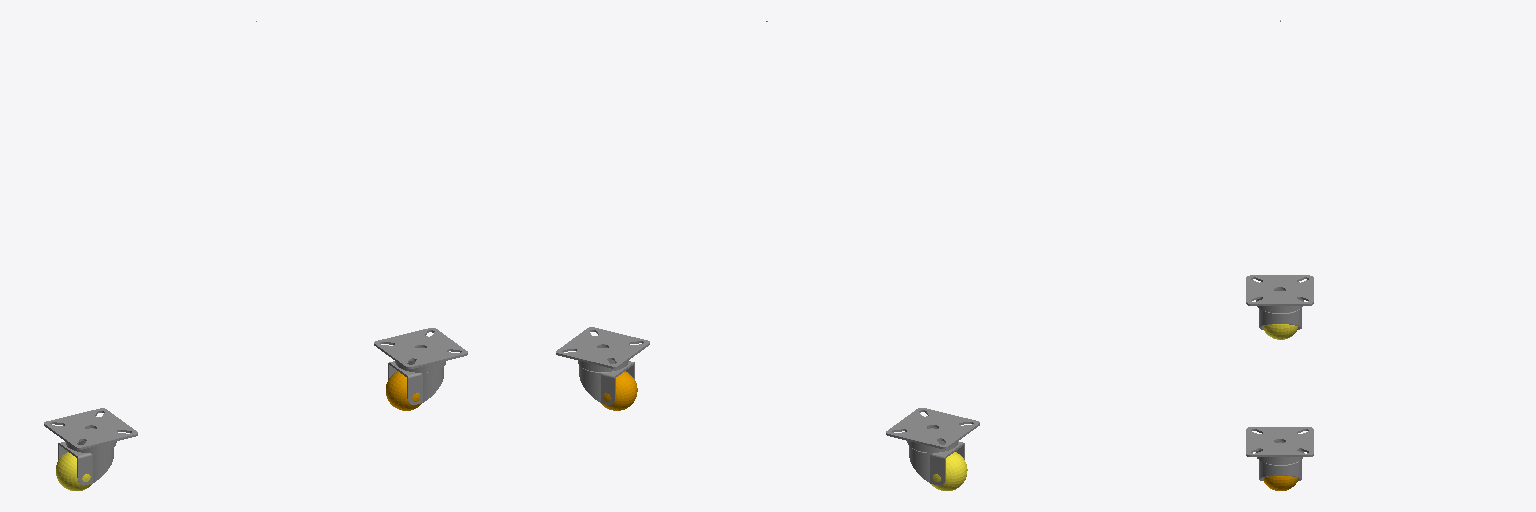
--- What the picture shows (computed from the rendered views, not written in the file) ---
3 views of the same robot in one strip: view 1: azimuth 30°, elevation 25°; view 2: azimuth 150°, elevation 25°; view 3: azimuth 270°, elevation 25° (orthographic).
Model evarobotmodel with 32 links and 31 joints (6 continuous, 25 fixed), rooted at base_link, posed every joint at zero.
Links seen in each view (by area): view 1: rear_caster_base_link, front_caster_base_link, rear_caster_rotate_link, front_caster_rotate_link, front_caster_wheel_link, rear_caster_wheel_link; view 2: rear_caster_base_link, front_caster_base_link, rear_caster_rotate_link, front_caster_rotate_link, front_caster_wheel_link, rear_caster_wheel_link; view 3: rear_caster_base_link, front_caster_base_link, rear_caster_rotate_link, front_caster_rotate_link.
Boxes of the visible links, box(x1,y1,x2,y2) form: rear_caster_base_link: box(44, 408, 137, 452); front_caster_base_link: box(374, 328, 467, 372); rear_caster_rotate_link: box(58, 428, 113, 485); front_caster_rotate_link: box(388, 348, 443, 404); front_caster_wheel_link: box(386, 371, 421, 410); rear_caster_wheel_link: box(56, 452, 91, 490); rear_caster_base_link: box(886, 408, 979, 452); front_caster_base_link: box(556, 327, 649, 371); rear_caster_rotate_link: box(909, 428, 964, 485); front_caster_rotate_link: box(579, 348, 634, 404); front_caster_wheel_link: box(601, 371, 637, 410); rear_caster_wheel_link: box(931, 452, 967, 490); rear_caster_base_link: box(1246, 275, 1313, 312); front_caster_base_link: box(1246, 427, 1313, 464); rear_caster_rotate_link: box(1259, 291, 1301, 329); front_caster_rotate_link: box(1259, 442, 1301, 480).
Size in the robot's own frame: 0.3822 by 0.06 by 0.3947 metres.
4 mesh visuals loaded from 7 distinct referenced files (2 Collada DAE); not drawn: 7 (reference not matched to a file when rendering).

URDF robot description (evarobotmodel):
<?xml version="1.0" encoding="UTF-8"?>
<robot name="evarobotmodel">

<!-- BASE-FOOTPRINT 
fro testing gmapping an dsolve liklehood issue basefoorptint commeted and controllers and diff driver topic odom and baselink
-->
  <!-- base_footprint is a fictitious link(frame) that is on the ground right below base_link origin 
  <link name="base_footprint">
    <visual>
        <origin xyz="0 0 0" rpy="0 0 0" />
        <geometry>
            <box size="0.001 0.001 0.001" />
        </geometry>
    </visual>
  </link>

  <gazebo reference="base_footprint">
    <turnGravityOff>false</turnGravityOff>
  </gazebo>

  <joint name="base_footprint_joint" type="fixed">
    <origin xyz="0 0 0" rpy="0 0 0" />
    <parent link="base_footprint"/>
    <child link="base_link" />
  </joint>
-->

<!--BASE -->
	<link name="base_link">	
			<collision>
				<origin xyz="0 0 0" rpy="0 0 0"/>
				<geometry>
					<box size="0.4 0.3 0.3"/> 
				</geometry>
			</collision>
			<visual>
				<origin xyz="0.065 -0.11 -0.15" rpy="0 0 0" />  
				<geometry>
					<mesh filename="package://evarobotmodel_description/meshes/base.dae"/> 
				</geometry>
				<material name="Gazebo/Black" />
			</visual>
			<inertial>
				<origin xyz="0 0 0" rpy="0 0 0"/>
				<mass value="10.0"/>
				<inertia
					ixx="1.0" ixy="0" ixz="0"
					iyy="1.0" iyz="0"
					izz="1.0"/>
			</inertial>
		</link>

		<gazebo reference="base_link">
			<material>Gazebo/Black</material> 
		</gazebo>
		<link name="basecolor_link">		
			<collision>
				<origin xyz="0 0 0" rpy="0 0 0"/>
				<geometry>
					<box size="0.0001 0.0001 0.0001"/> 
				</geometry>
			</collision>			
			<visual>
				<origin xyz="0.065 -0.11 -0.15" rpy="0 0 0" /> 
				<geometry>
					<mesh filename="package://evarobotmodel_description/meshes/base_orange.dae"/>  
				</geometry>
				<material name="Orange" />
			</visual>
			<inertial>
				<origin xyz="0 0 0" rpy="0 0 0"/>
				<mass value="0.0001"/>
				<inertia
					ixx="1e-6" ixy="0.0" ixz="0.0"
					iyy="1e-6" iyz="0.0"
					izz="1e-6"/>
			</inertial>			
		</link>
		<gazebo reference="basecolor_link">
			<material>Gazebo/Orange</material> 
		</gazebo>				
		<joint name="basecolor_joint" type="fixed">
			<axis xyz="0 1 0" />
			<origin xyz="0 0 0" rpy="0 0 0"/>
			<parent link="base_link"/>
			<child link="basecolor_link"/>
		</joint>    
    <!-- LEFT WHEEL -->
		<link name="left_wheel_link">
			<collision>
				<origin rpy="1.57075 0 0" xyz="0 0 0"/>
				<geometry>
					<cylinder length="0.035" radius="0.085"/>
				</geometry>
			</collision>
			<visual>
				<origin rpy="0 0 1.57079632679" xyz="0 0 0"/> 
				<geometry>
					 <mesh filename="package://evarobotmodel_description/meshes/rim.dae" scale="1 1 1"/> 
				</geometry>
				<material name="Grey"/>
			</visual>
			<inertial>
				<origin rpy="1.57075 0 0" xyz="0 0 0"/>
				<mass value="0.85"/>
				<inertia
					ixx="0.001" ixy="0" ixz="0"
					iyy="0.001" iyz="0"
					izz="0.001"/>
			</inertial>
		</link>
		<gazebo reference="left_wheel_link">
			<material>Gazebo/Grey</material>
			<mu1>1.0</mu1>
			<mu2>1.0</mu2>
			<kp>1000000.0</kp>
			<kd>100.0</kd>
			<minDepth>0.001</minDepth>
			<maxVel>1.0</maxVel>		
		</gazebo>
		<joint name="left_wheel_joint" type="continuous">
			<axis xyz="0 1 0"/>
			<parent link="base_link"/>
			<child link="left_wheel_link"/>
			<origin rpy="0 0 0" xyz="0 0.16 -0.119"/>
			<limit effort="100" velocity="100"/>
			<dynamics damping="0" friction="0"/>
		</joint>
		<link name="left_wheeltire_link">
			<collision>
				<origin rpy="1.57075 0 0" xyz="0 0 0"/>
				<geometry>
					<cylinder length="0.001" radius="0.001"/>
				</geometry>
			</collision>
			<visual>
				<origin rpy="0 0 1.57079632679" xyz="0 0 0"/>
				<geometry>
					<mesh filename="package://evarobotmodel_description/meshes/tire.dae"/> 
				</geometry>
			</visual>
			<inertial>
				<origin xyz="0 0 0" rpy="0 0 0"/>
				<mass value="0.001"/>
				<inertia
					ixx="0.001" ixy="0" ixz="0"
					iyy="0.001" iyz="0"
					izz="0.001"/>
			</inertial>
		</link>
		<gazebo reference="left_wheeltire_link">
			<material>Gazebo/Black</material>
		</gazebo>	
		<joint name="left_wheeltire_joint" type="fixed">
			<axis xyz="0 1 0"/>
			<parent link="left_wheel_link"/>
			<child link="left_wheeltire_link"/>
			<origin rpy="0 0 0" xyz="0.0 0.0 0.0"/>
		</joint>     
 <!-- RIGHT WHEEL -->
		<link name="right_wheel_link">
			<collision>
				<origin rpy="1.57075 0 0" xyz="0 0 0"/>
				<geometry>
					<cylinder length="0.035" radius="0.085"/>
				</geometry>
			</collision>
			<visual>
				<origin rpy="0 0 1.57079632679" xyz="0 0 0"/> 
				<geometry>
					 <mesh filename="package://evarobotmodel_description/meshes/rim.dae" scale="1 1 1"/> 
				</geometry>
				<material name="Grey"/>
			</visual>
			<inertial>
				<origin rpy="1.57075 0 0" xyz="0 0 0"/>
				<mass value="0.85"/>
				<inertia
					ixx="0.001" ixy="0" ixz="0"
					iyy="0.001" iyz="0"
					izz="0.001"/>
			</inertial>
		</link>
		<gazebo reference="right_wheel_link">
			<material>Gazebo/Grey</material>
			<mu1>1.0</mu1>
			<mu2>1.0</mu2>
			<kp>1000000.0</kp>
			<kd>100.0</kd>
			<minDepth>0.001</minDepth>
			<maxVel>1.0</maxVel>		
		</gazebo>
		<joint name="right_wheel_joint" type="continuous">
			<axis xyz="0 1 0"/>
			<parent link="base_link"/>
			<child link="right_wheel_link"/>
			<origin rpy="0.0 0.0 0.0" xyz="0.0 -0.16 -0.119"/>
			<limit effort="100" velocity="100"/>
			<dynamics damping="0" friction="0"/>
		</joint>
		<link name="right_wheeltire_link">
			<collision>
				<origin rpy="1.57075 0 0" xyz="0 0 0"/>
				<geometry>
					<cylinder length="0.001" radius="0.001"/>
				</geometry>
			</collision>
			<visual>
				<origin rpy="0 0 1.57079632679" xyz="0 0 0"/>
				<geometry>
					<mesh filename="package://evarobotmodel_description/meshes/tire.dae" scale="1 1 1"/> 
				</geometry>
				<material name="Black"/>
			</visual>
			<inertial>
				<origin xyz="0 0 0" rpy="0 0 0"/>
				<mass value="0.001"/>
				<inertia
					ixx="0.001" ixy="0" ixz="0"
					iyy="0.001" iyz="0"
					izz="0.001"/>
			</inertial>
		</link>
		<gazebo reference="right_wheeltire_link">
			<material>Gazebo/Black</material>
		</gazebo>	
		<joint name="right_wheeltire_joint" type="fixed">
			<axis xyz="0 1 0"/>
			<parent link="right_wheel_link"/>
			<child link="right_wheeltire_link"/>
			<origin rpy="0 0 0" xyz="0.0 0.0 0.0"/>
		</joint>

<!-- Transmission link joints to actuators  -->
<!-- VelocityJointInterface-EffortJointInterface  
<transmission name="left_wheel_transmission">
  <type>transmission_interface/SimpleTransmission</type>
  <joint name="left_wheel_joint">
    <hardwareInterface>hardware_interface/EffortJointInterface</hardwareInterface>  
  </joint>
  <actuator name="left_wheel_actuator">
    <mechanicalReduction>1</mechanicalReduction>
    <hardwareInterface>EffortJointInterface</hardwareInterface>
  </actuator>
</transmission>   -->

 <!-- VelocityJointInterface -EffortJointInterface  
<transmission name="right_wheel_transmission">
  <type>transmission_interface/SimpleTransmission</type>
  <joint name="right_wheel_joint">
    <hardwareInterface>hardware_interface/EffortJointInterface</hardwareInterface>  
  </joint>
  <actuator name="right_wheel_actuator">
    <mechanicalReduction>1</mechanicalReduction>
    <hardwareInterface>EffortJointInterface</hardwareInterface>
  </actuator>
</transmission>   -->


     
	<!--	  FRONT CASTER -->
		<link name="front_caster_base_link">
			<collision>
				<origin rpy="0 0 0" xyz="0 0 0"/>
				<geometry>
					<box size="0.06 0.06 0.0135"/>				
				</geometry>
			</collision>
			<visual>
				<origin rpy="3.1415926535897931 0 0" xyz="-0.005 -0.01075 0.00675"/>
				<geometry>
					<mesh filename="package://evarobotmodel_description/meshes/caster_base.dae" scale="1 1 1"/> 
				</geometry>
				<material name="Grey"/>
			</visual>
			<inertial>
				<mass value="0.01" />
				<origin xyz="0 0 0" />
				<inertia ixx="1e-6" ixy="0.0" ixz="0.0"
								 iyy="1e-6" iyz="0.0" 
								 izz="1e-6" />
			</inertial>
		</link>
		<gazebo reference="front_caster_base_link">
			<material>Gazebo/Grey</material>
			<mu1>0.0</mu1>
			<mu2>0.0</mu2>
			<kp>1000000.0</kp>
			<kd>100.0</kd>
			<minDepth>0.001</minDepth>
			<maxVel>1.0</maxVel>			
		</gazebo>
		<joint name="front_caster_base_joint" type="fixed">
			<parent link="base_link"/>
			<child link="front_caster_base_link"/>
			<origin rpy="0.0 0.0 0.0" xyz="0.1604 0.0 -0.15675"/>
			<axis xyz="0 0 0"/>
		</joint>
		<link name="front_caster_rotate_link">
			<collision>
				<origin rpy="0 0 0" xyz="0 0 0"/>
				<geometry>
					<cylinder length="0.023" radius="0.0215"/>
				</geometry>
			</collision>
			<visual>
				<origin rpy="3.1415926535897931 0 1.57079632679" xyz="0 0 0.01"/>
				<geometry>
					<mesh filename="package://evarobotmodel_description/meshes/caster_rot.dae"/> 
				</geometry>
			</visual>
			<inertial>
				<mass value="0.01" />
				<origin xyz="0 0 0" />
				<inertia ixx="1e-6" ixy="0.0" ixz="0.0"
								 iyy="1e-6" iyz="0.0" 
								 izz="1e-6" />
			</inertial>
		</link>
		<gazebo reference="front_caster_rotate_link">
			<material>Gazebo/Grey</material>
			<mu1>0.0</mu1>
			<mu2>0.0</mu2>
			<kp>1000000.0</kp>
			<kd>100.0</kd>
			<minDepth>0.001</minDepth>
			<maxVel>1.0</maxVel>			
		</gazebo>
		<joint name="front_caster_base_rotate_joint" type="continuous">
			<parent link="front_caster_base_link"/>
			<child link="front_caster_rotate_link"/>
			<origin rpy="0 0 0" xyz="0.0 0.0 -0.0185"/>
			<axis xyz="0 0 1"/>
		</joint>						
		<link name="front_caster_wheel_link">
			<collision>
				<origin rpy="1.57079632679 0 0" xyz="0 0 0"/>
				<geometry>
					<sphere radius="0.0175"/>
				</geometry>
			</collision>
			<visual>
				<origin rpy="1.57079632679 0 0" xyz="0 0 0"/>
				<geometry>
					<sphere radius="0.0175"/>				
				</geometry>
			</visual>
			<inertial>
				<mass value="0.01" />
				<origin xyz="0 0 0" />
				<inertia ixx="1e-6" ixy="0.0" ixz="0.0"
								 iyy="1e-6" iyz="0.0" 
								 izz="1e-6" />
			</inertial>
		</link>
		<gazebo reference="front_caster_wheel_link">
			<material>Gazebo/Yellow</material>
			<mu1>0.0</mu1>
			<mu2>0.0</mu2>
			<kp>1000000.0</kp>
			<kd>100.0</kd>
			<minDepth>0.001</minDepth>
			<maxVel>1.0</maxVel>
		</gazebo>
		<joint name="front_caster_rotate_wheel_joint" type="continuous">
			<parent link="front_caster_rotate_link"/>
			<child link="front_caster_wheel_link"/>
			<origin rpy="0 0 0" xyz="-0.014632 0.0 -0.0115"/>
			<axis xyz="0.577350269 0.577350269 0.577350269"/>
		</joint>
				
  	<!--REAR CASTER -->
		<link name="rear_caster_base_link">
			<collision>
				<origin rpy="0 0 0" xyz="0 0 0"/>
				<geometry>
					<box size="0.06 0.06 0.0135"/>				
				</geometry>
			</collision>
			<visual>
				<origin rpy="3.1415926535897931 0 0" xyz="-0.005 -0.01075 0.00675"/>
				<geometry>
					<mesh filename="package://evarobotmodel_description/meshes/caster_base.dae" scale="1 1 1"/> 
				</geometry>
				<material name="Grey"/>
			</visual>
			<inertial>
				<mass value="0.01" />
				<origin xyz="0 0 0" />
				<inertia ixx="1e-6" ixy="0.0" ixz="0.0"
								 iyy="1e-6" iyz="0.0" 
								 izz="1e-6" />
			</inertial>
		</link>
		<gazebo reference="rear_caster_base_link">
			<material>Gazebo/Grey</material>
			<mu1>0.0</mu1>
			<mu2>0.0</mu2>
			<kp>1000000.0</kp>
			<kd>100.0</kd>
			<minDepth>0.001</minDepth>
			<maxVel>1.0</maxVel>			
		</gazebo>
		<joint name="rear_caster_base_joint" type="fixed">
			<parent link="base_link"/>
			<child link="rear_caster_base_link"/>
			<origin rpy="0.0 0.0 0.0" xyz="-0.1604 0.0 -0.15675"/>
			<axis xyz="0 0 0"/>
		</joint>
		<link name="rear_caster_rotate_link">
			<collision>
				<origin rpy="0 0 0" xyz="0 0 0"/>
				<geometry>
					<cylinder length="0.023" radius="0.0215"/>
				</geometry>
			</collision>
			<visual>
				<origin rpy="3.1415926535897931 0 1.57079632679" xyz="0 0 0.01"/>
				<geometry>
					<mesh filename="package://evarobotmodel_description/meshes/caster_rot.dae" scale="1 1 1"/> 
				</geometry>
				<material name="Grey"/>
			</visual>
			<inertial>
				<mass value="0.01" />
				<origin xyz="0 0 0" />
				<inertia ixx="1e-6" ixy="0.0" ixz="0.0"
								 iyy="1e-6" iyz="0.0" 
								 izz="1e-6" />
			</inertial>
		</link>
		<gazebo reference="rear_caster_rotate_link">
			<material>Gazebo/Grey</material>
			<mu1>0.0</mu1>
			<mu2>0.0</mu2>
			<kp>1000000.0</kp>
			<kd>100.0</kd>
			<minDepth>0.001</minDepth>
			<maxVel>1.0</maxVel>			
		</gazebo>
		<joint name="rear_caster_base_rotate_joint" type="continuous">
			<parent link="rear_caster_base_link"/>
			<child link="rear_caster_rotate_link"/>
			<origin rpy="0 0 0" xyz="0.0 0.0 -0.0185"/>
			<axis xyz="0 0 1"/>
		</joint>						
		<link name="rear_caster_wheel_link">
			<collision>
				<origin rpy="1.57079632679 0 0" xyz="0 0 0"/>
				<geometry>
					<sphere radius="0.0175"/>
				</geometry>
			</collision>
			<visual>
				<origin rpy="1.57079632679 0 0" xyz="0 0 0"/>
				<geometry>
					<sphere radius="0.0175"/>				
				</geometry>
				<material name="Yellow"/>
			</visual>
			<inertial>
				<mass value="0.01" />
				<origin xyz="0 0 0" />
				<inertia ixx="1e-6" ixy="0.0" ixz="0.0"
								 iyy="1e-6" iyz="0.0" 
								 izz="1e-6" />
			</inertial>
		</link>
		<gazebo reference="rear_caster_wheel_link">
			<material>Gazebo/Yellow</material>
			<mu1>0.0</mu1>
			<mu2>0.0</mu2>
			<kp>1000000.0</kp>
			<kd>100.0</kd>
			<minDepth>0.001</minDepth>
			<maxVel>1.0</maxVel>
		</gazebo>
		<joint name="rear_caster_rotate_wheel_joint" type="continuous">
			<parent link="rear_caster_rotate_link"/>
			<child link="rear_caster_wheel_link"/>
			<origin rpy="0 0 0" xyz="-0.014632 0.0 -0.0115"/>
			<axis xyz="0.577350269 0.577350269 0.577350269"/>
		</joint>		
  	<!--KİNECT -->
		<link name="camera_link">
		  <visual>
			<origin xyz="0.0 0.0 0.004" rpy="0 0 0"/>
			<geometry>
			  <mesh filename="package://evarobotmodel_description/meshes/kinect.dae" scale="0.9 0.9 0.9"/>
			</geometry>
		  </visual>
		  <collision>
			<origin xyz="0.0 0.0 0.0" rpy="0 0 0" />
			<geometry>
				<box size="0.0730 0.2760 0.0720"/>
		        </geometry>
		  </collision>
		  <inertial>
			<mass value="0.170" />
			<origin xyz="0 0 0" />
			<inertia ixx="0.001152600" ixy="0.0" ixz="0.0"
					 iyy="0.000148934" iyz="0.0"
					 izz="0.001154654" />
		  </inertial>
		</link>
		<joint name="camera_rgb_joint" type="fixed">
		  <origin xyz="0.0 -0.02 0.0" rpy="0.0 0.0 0.0"/>
		  <parent link="camera_link"/>
		  <child link="camera_rgb_frame" />
		</joint>
		<gazebo reference="camera_link">
			<material>Gazebo/FlatBlack</material>
		</gazebo>
		<link name="camera_rgb_frame"/>
		<joint name="camera_rgb_optical_joint" type="fixed">
		  <origin xyz="0 0 0" rpy="-1.57079632679 0 -1.57079632679" />
		  <parent link="camera_rgb_frame" />
		  <child link="camera_rgb_optical_frame" />
		</joint>
		<link name="camera_rgb_optical_frame"/>
		<joint name="camera_joint" type="fixed">
		  <origin xyz="0.17 0.0 0.1913" rpy="0.0 0.0 0.0"/>
		  <parent link="base_link"/>
		  <child link="camera_link"/>
		</joint>
		<joint name="camera_depth_joint" type="fixed">
		  <origin xyz="0 -0.045 0" rpy="0 0 0" />
		  <parent link="camera_link" />
		  <child link="camera_depth_frame" />
		</joint>
		<link name="camera_depth_frame"/>
		<joint name="camera_depth_optical_joint" type="fixed">
		  <origin xyz="0 0 0" rpy="-1.57079632679 0 -1.57079632679" />
		  <parent link="camera_depth_frame" />
		  <child link="camera_depth_optical_frame" />
		</joint>
		<link name="camera_depth_optical_frame"/>

		<gazebo reference="camera_link">  
		  <sensor type="depth" name="camera">
			<always_on>true</always_on>
			<update_rate>20.0</update_rate>
			<camera>
			  <horizontal_fov>1.0471975512</horizontal_fov>
			  <image>
				<format>R8G8B8</format>
				<width>640</width>
				<height>480</height>
			  </image>
			  <clip>
				<near>0.05</near>
				<far>8.0</far>
			  </clip>
			</camera>
			<plugin name="kinect_camera_controller" filename="libgazebo_ros_openni_kinect.so">
			  <robotNamespace>/</robotNamespace>
			  <cameraName>camera</cameraName>
			  <alwaysOn>true</alwaysOn>
			  <updateRate>10</updateRate>
			  <imageTopicName>rgb/image_raw</imageTopicName>
			  <depthImageTopicName>depth/image_raw</depthImageTopicName>
			  <pointCloudTopicName>depth/points</pointCloudTopicName>
			  <cameraInfoTopicName>rgb/camera_info</cameraInfoTopicName>
			  <depthImageCameraInfoTopicName>depth/camera_info</depthImageCameraInfoTopicName>
			  <frameName>camera_depth_optical_frame</frameName>
			  <baseline>0.1</baseline>
			  <pointCloudCutoff>0.4</pointCloudCutoff>
	 		  <distortionK1>0.00000001</distortionK1>
			  <distortionK2>0.00000001</distortionK2>
			  <distortionK3>0.00000001</distortionK3>
			  <distortionT1>0.00000001</distortionT1>
			  <distortionT2>0.00000001</distortionT2>
			  <CxPrime>0</CxPrime>
			  <Cx>0</Cx>
			  <Cy>0</Cy>
			  <focalLength>0</focalLength>
			 <hackBaseline>0</hackBaseline>
			</plugin>
		  </sensor>
		</gazebo>
   <!--LİDAR -->

		<!--  SONAR0 -->
		<link name="sonar0_link">
			<inertial>
				<mass value="0.001" />
				<origin xyz="0 0 0" rpy="0 0 0" />
				<inertia ixx="1e-6" ixy="0" ixz="0" iyy="1e-6" iyz="0" izz="1e-6" />
			</inertial>				
			<collision>
				<origin xyz="0 0 0" rpy="0 0 0" />
				<geometry>
					<box size="0.01 0.01 0.01" />
				</geometry>
			</collision>
		</link>
		<joint name="sonar0_joint" type="fixed">
			<origin xyz="0.130 -0.147 0.08" rpy="0 0 -1.0471975512" />
			<axis xyz="1 0 0" />
			<parent link="base_link"/>
			<child link="sonar0_link"/>
		</joint>
		 <!--  Sonar Plugin  -->
		<gazebo reference="sonar0_link">
			<sensor type="ray" name="sonar0">
				<pose>0 0 0 0 0 0</pose>
				<ray>
					<scan>
						<horizontal>
							<samples>320</samples>
							<resolution>1</resolution>
							<min_angle>-0.479965544</min_angle>
							<max_angle>0.479965544</max_angle>
						</horizontal>
					</scan>
					<range>
						<min>0.02</min>
						<max>5.0</max>
						<resolution>0.01</resolution>
					</range>
				</ray>
				<plugin name="sonar0_plugin" filename="libgazebo_ros_range.so">
					<topicName>sonar0</topicName>
					<frameName>sonar0_link</frameName>
					<frameId>sonar0_link</frameId>
					<radiation>ultrasound</radiation>
					<fov>0.7</fov>
					<gaussianNoise>0</gaussianNoise>
					<updateRate>4</updateRate>
				</plugin>
				<always_on>1</always_on>

				<visualize>false</visualize>
			</sensor>
		</gazebo>		
		<!--  SONAR1 -->
		<link name="sonar1_link">
			<inertial>
				<mass value="0.001" />
				<origin xyz="0 0 0" rpy="0 0 0" />
				<inertia ixx="1e-6" ixy="0" ixz="0" iyy="1e-6" iyz="0" izz="1e-6" />
			</inertial>				
			<collision>
				<origin xyz="0 0 0" rpy="0 0 0" />
				<geometry>
					<box size="0.01 0.01 0.01" />
				</geometry>
			</collision>
		</link>
		<joint name="sonar1_joint" type="fixed">
			<origin xyz="0.213 0.0 0.08" rpy="0 0 0" />
			<axis xyz="1 0 0" />
			<parent link="base_link"/>
			<child link="sonar1_link"/>
		</joint>
		<!--   Sonar Plugin  -->
		<gazebo reference="sonar1_link">
			<sensor type="ray" name="sonar1">
				<pose>0 0 0 0 0 0</pose>
				<ray>
					<scan>
						<horizontal>
							<samples>320</samples>
							<resolution>1</resolution>
							<min_angle>-0.479965544</min_angle>
							<max_angle>0.479965544</max_angle>
						</horizontal>
					</scan>
					<range>
						<min>0.02</min>
						<max>5.0</max>
						<resolution>0.01</resolution>
					</range>
				</ray>
				<plugin name="sonar1_plugin" filename="libgazebo_ros_range.so">
					<topicName>sonar1</topicName>
					<frameName>sonar1_link</frameName>
					<frameId>sonar1_link</frameId>
					<radiation>ultrasound</radiation>
					<fov>0.7</fov>
					<gaussianNoise>0</gaussianNoise>
					<updateRate>4</updateRate>
				</plugin>
				<always_on>1</always_on>
				<visualize>false</visualize>
			</sensor>
		</gazebo>				
		
		<!--  SONAR2 -->
		<link name="sonar2_link">
			<inertial>
				<mass value="0.001" />
				<origin xyz="0 0 0" rpy="0 0 0" />
				<inertia ixx="1e-6" ixy="0" ixz="0" iyy="1e-6" iyz="0" izz="1e-6" />
			</inertial>				
			<collision>
				<origin xyz="0 0 0" rpy="0 0 0" />
				<geometry>
					<box size="0.01 0.01 0.01" />
				</geometry>
			</collision>
		</link>
		<joint name="sonar2_joint" type="fixed">
			<origin xyz="0.130 0.147 0.08" rpy="0 0 1.0471975512" />
			<axis xyz="1 0 0" />
			<parent link="base_link"/>
			<child link="sonar2_link"/>
		</joint>
		<!--   Sonar Plugin  -->
		<gazebo reference="sonar2_link">
			<sensor type="ray" name="sonar2">
				<pose>0 0 0 0 0 0</pose>
				<ray>
					<scan>
						<horizontal>
							<samples>320</samples>
							<resolution>1</resolution>
							<min_angle>-0.479965544</min_angle>
							<max_angle>0.479965544</max_angle>
						</horizontal>
					</scan>
					<range>
						<min>0.02</min>
						<max>5.0</max>
						<resolution>0.01</resolution>
					</range>
				</ray>
				<plugin name="sonar2_plugin" filename="libgazebo_ros_range.so">
					<topicName>sonar2</topicName>
					<frameName>sonar2_link</frameName>
					<frameId>sonar2_link</frameId>
					<radiation>ultrasound</radiation>
					<fov>0.7</fov>
					<gaussianNoise>0</gaussianNoise>
					<updateRate>4</updateRate>
				</plugin>
				<always_on>1</always_on>
				<visualize>false</visualize>
			</sensor>
		</gazebo>		
		<!--  SONAR3 -->
		<link name="sonar3_link">
			<inertial>
				<mass value="0.001" />
				<origin xyz="0 0 0" rpy="0 0 0" />
				<inertia ixx="1e-6" ixy="0" ixz="0" iyy="1e-6" iyz="0" izz="1e-6" />
			</inertial>				
			<collision>
				<origin xyz="0 0 0" rpy="0 0 0" />
				<geometry>
					<box size="0.01 0.01 0.01" />
				</geometry>
			</collision>
		</link>
		<joint name="sonar3_joint" type="fixed">
			<origin xyz="-0.045 0.168 0.08" rpy="0 0 1.57079632679" />
			<axis xyz="1 0 0" />
			<parent link="base_link"/>
			<child link="sonar3_link"/>
		</joint>
		<!--   Sonar Plugin  -->
		<gazebo reference="sonar3_link">
			<sensor type="ray" name="sonar3">
				<pose>0 0 0 0 0 0</pose>
				<ray>
					<scan>
						<horizontal>
							<samples>320</samples>
							<resolution>1</resolution>
							<min_angle>-0.479965544</min_angle>
							<max_angle>0.479965544</max_angle>
						</horizontal>
					</scan>
					<range>
						<min>0.02</min>
						<max>5.0</max>
						<resolution>0.01</resolution>
					</range>
				</ray>
				<plugin name="sonar3_plugin" filename="libgazebo_ros_range.so">
					<topicName>sonar3</topicName>
					<frameName>sonar3_link</frameName>
					<frameId>sonar3_link</frameId>
					<radiation>ultrasound</radiation>
					<fov>0.7</fov>
					<gaussianNoise>0</gaussianNoise>
					<updateRate>4</updateRate>
				</plugin>
				<always_on>1</always_on>
				<visualize>false</visualize>
			</sensor>
		</gazebo>				
		<!--  SONAR4 -->
		<link name="sonar4_link">
			<inertial>
				<mass value="0.001" />
				<origin xyz="0 0 0" rpy="0 0 0" />
				<inertia ixx="1e-6" ixy="0" ixz="0" iyy="1e-6" iyz="0" izz="1e-6" />
			</inertial>				
			<collision>
				<origin xyz="0 0 0" rpy="0 0 0" />
				<geometry>
					<box size="0.01 0.01 0.01" />
				</geometry>
			</collision>
		</link>
		<joint name="sonar4_joint" type="fixed">
			<origin xyz="-0.191 0.084 0.08" rpy="0 0 2.61799387799" />
			<axis xyz="1 0 0" />
			<parent link="base_link"/>
			<child link="sonar4_link"/>
		</joint>
		<!--   Sonar Plugin  -->
		<gazebo reference="sonar4_link">
			<sensor type="ray" name="sonar4">
				<pose>0 0 0 0 0 0</pose>
				<ray>
					<scan>
						<horizontal>
							<samples>320</samples>
							<resolution>1</resolution>
							<min_angle>-0.479965544</min_angle>
							<max_angle>0.479965544</max_angle>
						</horizontal>
					</scan>
					<range>
						<min>0.02</min>
						<max>5.0</max>
						<resolution>0.01</resolution>
					</range>
				</ray>
				<plugin name="sonar4_plugin" filename="libgazebo_ros_range.so">
					<topicName>sonar4</topicName>
					<frameName>sonar4_link</frameName>
					<frameId>sonar4_link</frameId>
					<radiation>ultrasound</radiation>
					<fov>0.7</fov>
					<gaussianNoise>0</gaussianNoise>
					<updateRate>4</updateRate>
				</plugin>
				<always_on>1</always_on>
				<visualize>false</visualize>
			</sensor>
		</gazebo>			
		
		<!--  SONAR5 -->
		<link name="sonar5_link">
			<inertial>
				<mass value="0.001" />
				<origin xyz="0 0 0" rpy="0 0 0" />
				<inertia ixx="1e-6" ixy="0" ixz="0" iyy="1e-6" iyz="0" izz="1e-6" />
			</inertial>				
			<collision>
				<origin xyz="0 0 0" rpy="0 0 0" />
				<geometry>
					<box size="0.01 0.01 0.01" />
				</geometry>
			</collision>
		</link>
		<joint name="sonar5_joint" type="fixed">
			<origin xyz="-0.191 -0.084 0.08" rpy="0 0 -2.61799387799" />
			<axis xyz="1 0 0" />
			<parent link="base_link"/>
			<child link="sonar5_link"/>
		</joint>
		<!--   Sonar Plugin  -->
		<gazebo reference="sonar5_link">
			<sensor type="ray" name="sonar5">
				<pose>0 0 0 0 0 0</pose>
				<ray>
					<scan>
						<horizontal>
							<samples>320</samples>
							<resolution>1</resolution>
							<min_angle>-0.479965544</min_angle>
							<max_angle>0.479965544</max_angle>
						</horizontal>
					</scan>
					<range>
						<min>0.02</min>
						<max>5.0</max>
						<resolution>0.01</resolution>
					</range>
				</ray>
				<plugin name="sonar5_plugin" filename="libgazebo_ros_range.so">
					<topicName>sonar5</topicName>
					<frameName>sonar5_link</frameName>
					<frameId>sonar5_link</frameId>
					<radiation>ultrasound</radiation>
					<fov>0.7</fov>
					<gaussianNoise>0</gaussianNoise>
					<updateRate>4</updateRate>
				</plugin>
				<always_on>1</always_on>
				<visualize>false</visualize>
			</sensor>
		</gazebo>		
		<!--  SONAR6  -->
		<link name="sonar6_link">
			<inertial>
				<mass value="0.001" />
				<origin xyz="0 0 0" rpy="0 0 0" />
				<inertia ixx="1e-6" ixy="0" ixz="0" iyy="1e-6" iyz="0" izz="1e-6" />
			</inertial>				
			<collision>
				<origin xyz="0 0 0" rpy="0 0 0" />
				<geometry>
					<box size="0.01 0.01 0.01" />
				</geometry>
			</collision>
		</link>
		<joint name="sonar6_joint" type="fixed">
			<origin xyz="-0.045 -0.168 0.08" rpy="0 0 -1.57079632679" />
			<axis xyz="1 0 0" />
			<parent link="base_link"/>
			<child link="sonar6_link"/>
		</joint>
		<!--   Sonar Plugin  -->
		<gazebo reference="sonar6_link">
			<sensor type="ray" name="sonar6">
				<pose>0 0 0 0 0 0</pose>
				<ray>
					<scan>
						<horizontal>
							<samples>320</samples>
							<resolution>1</resolution>
							<min_angle>-0.479965544</min_angle>
							<max_angle>0.479965544</max_angle>
						</horizontal>
					</scan>
					<range>
						<min>0.02</min>
						<max>5.0</max>
						<resolution>0.01</resolution>
					</range>
				</ray>
				<plugin name="sonar6_plugin" filename="libgazebo_ros_range.so">
					<topicName>sonar6</topicName>
					<frameName>sonar6_link</frameName>
					<frameId>sonar6_link</frameId>
					<radiation>ultrasound</radiation>
					<fov>0.7</fov>
					<gaussianNoise>0</gaussianNoise>
					<updateRate>4</updateRate>
				</plugin>
				<always_on>1</always_on>
				<visualize>false</visualize>
			</sensor>
		</gazebo>	
		<!--  IR0 -->
		<link name="ir0_link">
			<inertial>
				<mass value="0.001" />
				<origin xyz="0 0 0" rpy="0 0 0" />
				<inertia ixx="1e-6" ixy="0" ixz="0" iyy="1e-6" iyz="0" izz="1e-6" />
			</inertial>
			<collision>
				<origin xyz="0 0 0" rpy="0 0 0" />
				<geometry>
					<box size="0.01 0.01 0.01" />
				</geometry>
			</collision>
		</link>		
		<joint name="ir0_joint" type="fixed">
			<origin xyz="0.191 -0.084 -0.072" rpy="0 0 -0.52359877559" />
			<axis xyz="1 0 0"/>
			<parent link="base_link"/>
			<child link="ir0_link"/>
		</joint>
		<gazebo reference="ir0_link">
			<sensor type="ray" name="ir0">
				<pose>0 0 0 0 0 0</pose>
				<ray>
					<scan>
						<horizontal>
							<samples>320</samples>
							<resolution>1</resolution>
							<min_angle>-0.001</min_angle>
							<max_angle>0.001</max_angle>
						</horizontal>
					</scan>
					
					<range>
						<min>0.1</min>
						<max>0.8</max>
						<resolution>0.01</resolution>
					</range>
				</ray>
				<plugin name="ir0_plugin" filename="libgazebo_ros_range.so">
					<topicName>ir0</topicName>
					<frameName>ir0_link</frameName>
					<frameId>ir0_link</frameId>
					<radiation>infrared</radiation>
					<fov>0.01</fov>
					<gaussianNoise>0</gaussianNoise>
					<updateRate>4</updateRate>
				</plugin>
				<always_on>1</always_on>
				<visualize>false</visualize>
			</sensor>
		</gazebo>
		<!--  İR1 -->
		<link name="ir1_link">
			<inertial>
				<mass value="0.001" />
				<origin xyz="0 0 0" rpy="0 0 0" />
				<inertia ixx="1e-6" ixy="0" ixz="0" iyy="1e-6" iyz="0" izz="1e-6" />
			</inertial>
			<collision>
				<origin xyz="0 0 0" rpy="0 0 0" />
				<geometry>
					<box size="0.01 0.01 0.01" />
				</geometry>
			</collision>
		</link>		
		<joint name="ir1_joint" type="fixed">
			<origin xyz="0.191 0.084 -0.072" rpy="0 0 0.52359877559" />
			<axis xyz="1 0 0"/>
			<parent link="base_link"/>
			<child link="ir1_link"/>
		</joint>
		<gazebo reference="ir1_link">
			<sensor type="ray" name="ir1">
				<pose>0 0 0 0 0 0</pose>
				<ray>
					<scan>
						<horizontal>
							<samples>320</samples>
							<resolution>1</resolution>
							<min_angle>-0.001</min_angle>
							<max_angle>0.001</max_angle>
						</horizontal>
					</scan>
					
					<range>
						<min>0.1</min>
						<max>0.8</max>
						<resolution>0.01</resolution>
					</range>
				</ray>
				<plugin name="ir1_plugin" filename="libgazebo_ros_range.so">
					<topicName>ir1</topicName>
					<frameName>ir1_link</frameName>
					<frameId>ir1_link</frameId>
					<radiation>infrared</radiation>
					<fov>0.01</fov>
					<gaussianNoise>0</gaussianNoise>
					<updateRate>4</updateRate>
				</plugin>
				<always_on>1</always_on>
				<visualize>false</visualize>
			</sensor>
		</gazebo>			
		<!--  IR2 -->
		<link name="ir2_link">
			<inertial>
				<mass value="0.001" />
				<origin xyz="0 0 0" rpy="0 0 0" />
				<inertia ixx="1e-6" ixy="0" ixz="0" iyy="1e-6" iyz="0" izz="1e-6" />
			</inertial>
			<collision>
				<origin xyz="0 0 0" rpy="0 0 0" />
				<geometry>
					<box size="0.01 0.01 0.01" />
				</geometry>
			</collision>
		</link>		
		<joint name="ir2_joint" type="fixed">
			<origin xyz="-0.13 0.147 -0.072" rpy="0 0 2.09439510239" />
			<axis xyz="1 0 0"/>
			<parent link="base_link"/>
			<child link="ir2_link"/>
		</joint>
		<gazebo reference="ir2_link">
			<sensor type="ray" name="ir2">
				<pose>0 0 0 0 0 0</pose>
				<ray>
					<scan>
						<horizontal>
							<samples>320</samples>
							<resolution>1</resolution>
							<min_angle>-0.001</min_angle>
							<max_angle>0.001</max_angle>
						</horizontal>
					</scan>
					
					<range>
						<min>0.1</min>
						<max>0.8</max>
						<resolution>0.01</resolution>
					</range>
				</ray>
				<plugin name="ir2_plugin" filename="libgazebo_ros_range.so">
					<topicName>ir2</topicName>
					<frameName>ir2_link</frameName>
					<frameId>ir2_link</frameId>
					<radiation>infrared</radiation>
					<fov>0.01</fov>
					<gaussianNoise>0</gaussianNoise>
					<updateRate>4</updateRate>
				</plugin>
				<always_on>1</always_on>
				<visualize>false</visualize>
			</sensor>
		</gazebo>		
		<!--  IR3 -->
		<link name="ir3_link">
			<inertial>
				<mass value="0.001" />
				<origin xyz="0 0 0" rpy="0 0 0" />
				<inertia ixx="1e-6" ixy="0" ixz="0" iyy="1e-6" iyz="0" izz="1e-6" />
			</inertial>
			<collision>
				<origin xyz="0 0 0" rpy="0 0 0" />
				<geometry>
					<box size="0.01 0.01 0.01" />
				</geometry>
			</collision>
		</link>		
		<joint name="ir3_joint" type="fixed">
			<origin xyz="-0.13 -0.147 -0.072" rpy="0 0 -2.09439510239" />
			<axis xyz="1 0 0"/>
			<parent link="base_link"/>
			<child link="ir3_link"/>
		</joint>
		<gazebo reference="ir3_link">
			<sensor type="ray" name="ir3">
				<pose>0 0 0 0 0 0</pose>
				<ray>
					<scan>
						<horizontal>
							<samples>320</samples>
							<resolution>1</resolution>
							<min_angle>-0.001</min_angle>
							<max_angle>0.001</max_angle>
						</horizontal>
					</scan>
					
					<range>
						<min>0.1</min>
						<max>0.8</max>
						<resolution>0.01</resolution>
					</range>
				</ray>
				<plugin name="ir3_plugin" filename="libgazebo_ros_range.so">
					<topicName>ir3</topicName>
					<frameName>ir3_link</frameName>
					<frameId>ir3_link</frameId>
					<radiation>infrared</radiation>
					<fov>0.01</fov>
					<gaussianNoise>0</gaussianNoise>
					<updateRate>4</updateRate>
				</plugin>
				<always_on>1</always_on>
				<visualize>false</visualize>
			</sensor>
		</gazebo>		
		<!--  BUMPER0 -->
		<link name="bumper0_link">
			<collision>
				<origin xyz="0 0 0" rpy="0 0 0"/>
				<geometry>
				<box size="0.015 0.015 0.02"/>
				</geometry>
			</collision>
			<inertial>
				<mass value="1e-5" />
				<origin xyz="0 0 0" rpy="0 0 0"/>
				<inertia ixx="1e-6" ixy="0" ixz="0" iyy="1e-6" iyz="0" izz="1e-6" />
			</inertial>
		</link>
		<!--   Bumper joint  -->
		<joint name="bumper0_joint" type="fixed">
			<origin xyz="0.191 -0.084 -0.072" rpy="0 0 -0.52359877559" />
			<axis xyz="0 1 0" />
			<parent link="base_link"/>
			<child link="bumper0_link"/>
		</joint>
		<!--   Bumper plugin  -->
		<gazebo reference="bumper0_link">
			<sensor name="bumper0" type="contact">
				<always_on>true</always_on>
				<contact>
					<collision>bumper0_link_collision</collision>
				</contact>
				<plugin name="bumper0_plugin" filename="libgazebo_ros_bumper.so">
					<bumperTopicName>bumper0</bumperTopicName>
					<updateRate>10</updateRate>
				<frameName>bumper0_link</frameName>
				</plugin>
			</sensor>
	    	</gazebo>			
		<!--  BUMPER1 -->
		<link name="bumper1_link">
			<collision>
				<origin xyz="0 0 0" rpy="0 0 0"/>
				<geometry>
				<box size="0.015 0.015 0.02"/>
				</geometry>
			</collision>
			<inertial>
				<mass value="1e-5" />
				<origin xyz="0 0 0" rpy="0 0 0"/>
				<inertia ixx="1e-6" ixy="0" ixz="0" iyy="1e-6" iyz="0" izz="1e-6" />
			</inertial>
		</link>
		<!--   Bumper joint  -->
		<joint name="bumper1_joint" type="fixed">
			<origin xyz="0.213 0 -0.072" rpy="0 0 0" />
			<axis xyz="0 1 0" />
			<parent link="base_link"/>
			<child link="bumper1_link"/>
		</joint>
		<!--   Bumper plugin  -->
		<gazebo reference="bumper1_link">
			<sensor name="bumper1" type="contact">
				<always_on>true</always_on>
				<update_rate>10</update_rate>
				<contact>
					<collision>bumper1_link_collision</collision>
				</contact>
				<plugin name="bumper1_plugin" filename="libgazebo_ros_bumper.so">
					<bumperTopicName>bumper1</bumperTopicName>
				<frameName>bumper1_link</frameName>
				</plugin>
			</sensor>
	    	</gazebo>			  
		<!--  BUMPER2 -->
		<link name="bumper2_link">
			<collision>
				<origin xyz="0 0 0" rpy="0 0 0"/>
				<geometry>
				<box size="0.015 0.015 0.02"/>
				</geometry>
			</collision>
			<inertial>
				<mass value="1e-5" />
				<origin xyz="0 0 0" rpy="0 0 0"/>
				<inertia ixx="1e-6" ixy="0" ixz="0" iyy="1e-6" iyz="0" izz="1e-6" />
			</inertial>
		</link>
		<!--   Bumper joint  -->
		<joint name="bumper2_joint" type="fixed">
			<origin xyz="0.191 0.084 -0.072" rpy="0 0 0.52359877559" />
			<axis xyz="0 1 0" />
			<parent link="base_link"/>
			<child link="bumper2_link"/>
		</joint>
		<!--   Bumper plugin  -->
		<gazebo reference="bumper2_link">
			<sensor name="bumper2" type="contact">
				<always_on>true</always_on>
				<update_rate>10</update_rate>
				<contact>
					<collision>bumper2_link_collision</collision>
				</contact>
				<plugin name="bumper2_plugin" filename="libgazebo_ros_bumper.so">
					<bumperTopicName>bumper2</bumperTopicName>
				<frameName>bumper2_link</frameName>
				</plugin>
			</sensor>
	  	  </gazebo>				
	  	<!--    AHRS -->
		<link name="imu_link">
			<inertial>
				<mass value="0.001"/>
				<origin rpy="0 0 0" xyz="0 0 0"/>
				<inertia ixx="0.0001" ixy="0" ixz="0" iyy="0.0001" iyz="0" izz="0.0001"/>
			</inertial>
			<visual>
				<origin rpy="0 0 0" xyz="0 0 0"/>
				<geometry>
					<box size="0.001 0.001 0.001"/>
				</geometry>
			</visual>
			<collision>
				<origin rpy="0 0 0" xyz="0 0 0"/>
				<geometry>
					<box size=".001 .001 .001"/>
				</geometry>
			</collision>
		</link>
		<joint name="imu_joint" type="fixed">
			<axis xyz="1 0 0"/>
			<origin xyz="0 0 0.19" rpy="3.1415926535897931 0 0" />
			<parent link="base_link"/>
			<child link="imu_link"/>
		</joint>
  		<gazebo>
			<plugin name="imu_plugin" filename="libgazebo_ros_imu.so">
				<alwaysOn>true</alwaysOn>
				<frameName>imu_link</frameName>   
				<bodyName>imu_link</bodyName>
				<topicName>imu</topicName>
				<serviceName>imu_service</serviceName>
				<gaussianNoise>0.0</gaussianNoise>
				<updateRate>10</updateRate> 
			</plugin>
		</gazebo> 
		 <gazebo>
			<plugin name="differential_drive_controller" filename="libgazebo_ros_diff_drive.so">
				<alwaysOn>true</alwaysOn>
				<updateRate>10.0</updateRate> 
				<robotBaseFrame>base_link</robotBaseFrame>
				<publishWheelTF>true</publishWheelTF>
				<publishWheelJointState>true</publishWheelJointState>
				<wheelAcceleration>1</wheelAcceleration>
				<leftJoint>right_wheel_joint</leftJoint>
				<rightJoint>left_wheel_joint</rightJoint>
				<wheelSeparation>0.33</wheelSeparation>
				<wheelDiameter>0.17</wheelDiameter>
				<wheelTorque>20</wheelTorque>
				<commandTopic>cmd_vel</commandTopic>
				<odometryTopic>odom</odometryTopic>
<!--    name changed for Gmapping to work so the odometry frame can be odom -->
				<odometryFrame>odom</odometryFrame>
				<robotNamespace>/</robotNamespace>
				<legacyMode>true</legacyMode>
				<publishTf>true</publishTf>
<!--    Warning while runing Gazebo ,this tags where sit by default to the assigned values -->
				<rosDebugLevel>na</rosDebugLevel>
				<publishOdomTF>true</publishOdomTF>
			</plugin>


		  </gazebo>		







<!--    Simple Controller Code (used in many online taturials) -->


<gazebo> 
  <plugin name="gazebo_ros_control" filename="libgazebo_ros_control.so">
      <alwaysOn>true</alwaysOn>
      <robotNamespace>/</robotNamespace>
      <updateRate>1000.0</updateRate>

    
  </plugin>
</gazebo>


<!--    Original Controller Code -->
<!-- Error control manager :
* Remove Control tag and add plugin tag.
*Remove Interface:audio . 
Didn't work -->

<!-- <gazebo>
    <controller:gazebo_ros_controller_manager name="gazebo_ros_controller_manager" plugin="libgazebo_ros_controller_manager.so">
      <alwaysOn>true</alwaysOn>
      <updateRate>1000.0</updateRate>
      <interface:audio name="gazebo_ros_controller_manager_dummy_iface" />
      </controller:gazebo_ros_controller_manager>
  </gazebo>
-->          
	<gazebo>
        <plugin name="joint_state_publisher" filename="libgazebo_ros_joint_state_publisher.so">
          <robotNamespace>/</robotNamespace>
          	<jointName>left_wheel_joint,right_wheel_joint,front_caster_base_rotate_joint,rear_caster_base_rotate_joint,front_caster_rotate_wheel_joint,rear_caster_rotate_wheel_joint</jointName>
          <updateRate>10.0</updateRate>
          <alwaysOn>true</alwaysOn>
        </plugin>
    </gazebo>
</robot>
